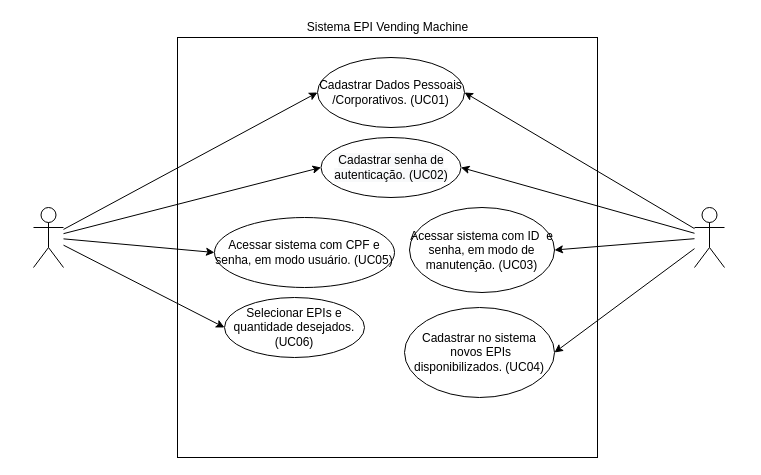
Image size: 761x475. Some labels were removed from this diagram. Here are the shapes that lost their labels. From the top down, the centre of each, then its label:
At point (48, 237): "Funcionário".
At point (709, 237): "Responsável Técnico".
